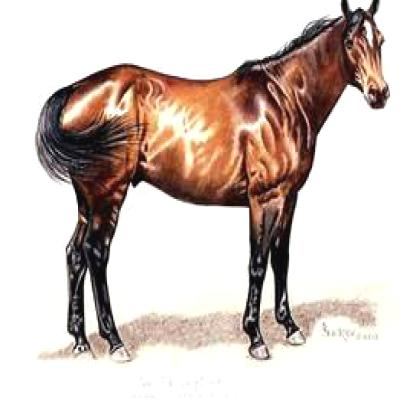horse: (35, 0, 393, 364)
